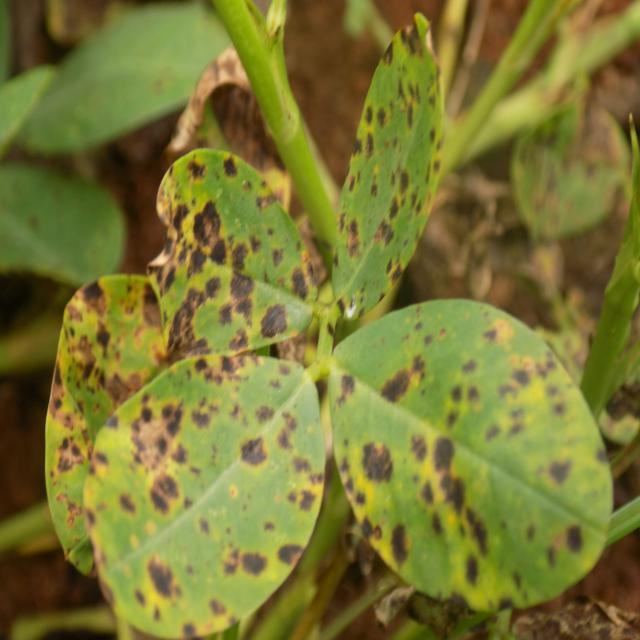Ground nut_tikka leaf spot: (328, 290, 610, 600), (89, 353, 327, 640), (50, 270, 175, 582), (328, 13, 442, 315), (152, 148, 315, 344)
